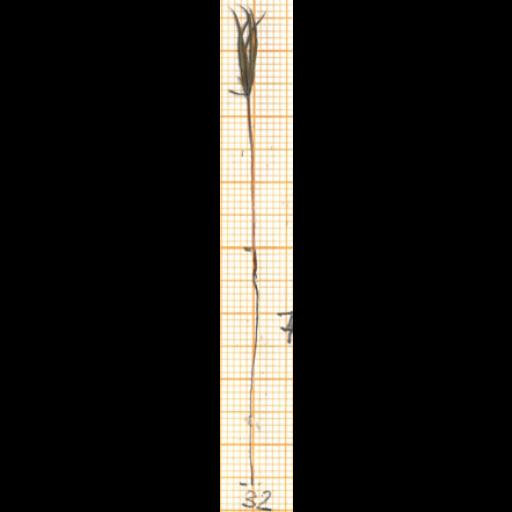flowerPinus: (231, 7, 264, 96)
rootPinus: (249, 279, 258, 484)
stemPinus: (247, 97, 254, 251)
